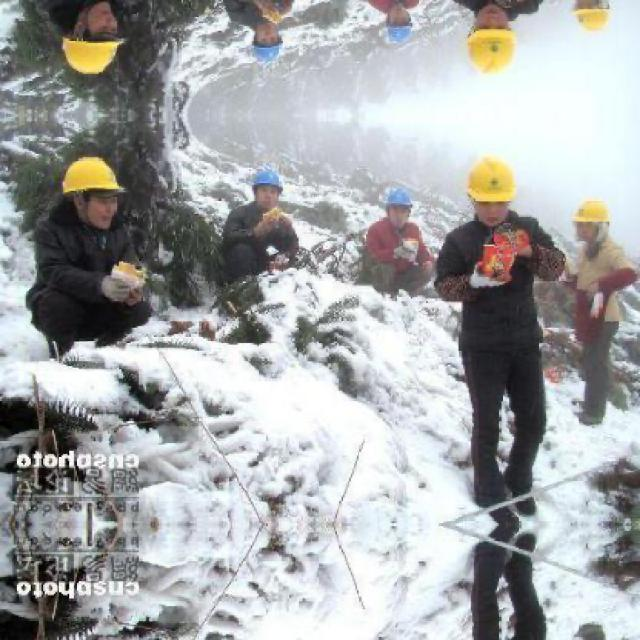helmet: (57, 0, 131, 80), (57, 149, 129, 231), (462, 146, 523, 228), (462, 2, 523, 83), (571, 188, 615, 248), (571, 0, 617, 42), (248, 163, 289, 208), (248, 22, 289, 66), (380, 180, 417, 225), (380, 5, 417, 49)
